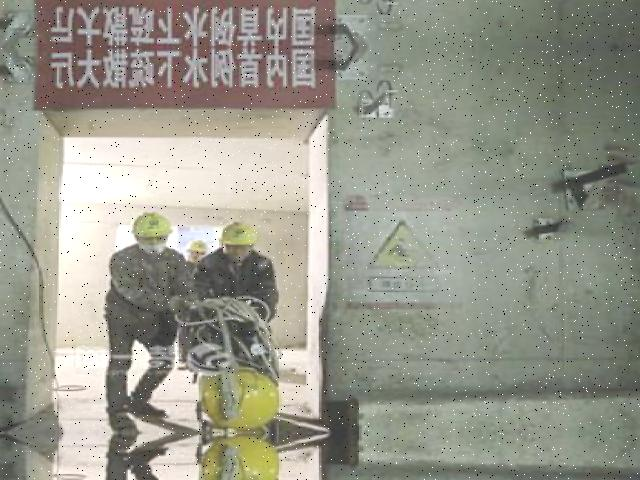Helmet: (129, 205, 180, 242), (220, 215, 262, 252), (185, 233, 212, 261)
